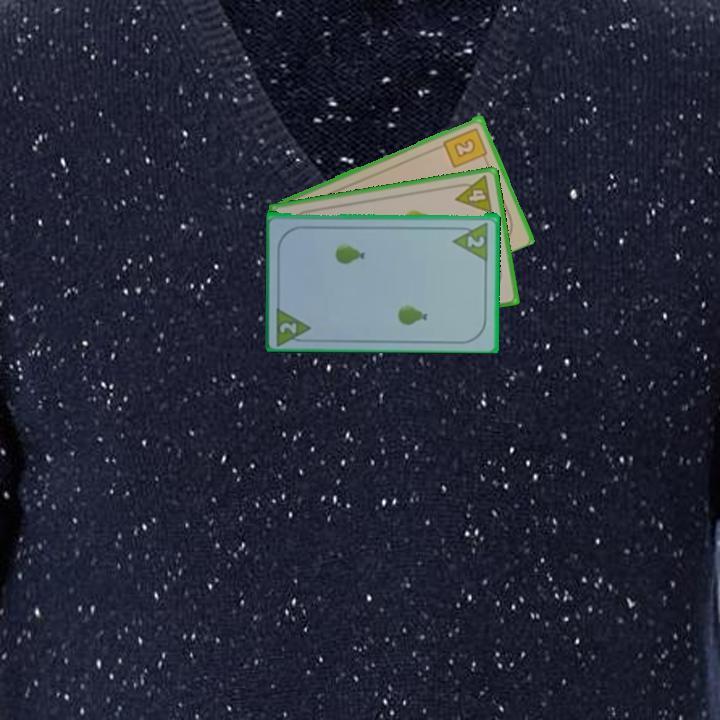2b: (440, 124, 490, 170)
2p: (464, 232, 488, 250), (276, 319, 300, 336)
4p: (450, 172, 495, 217)
